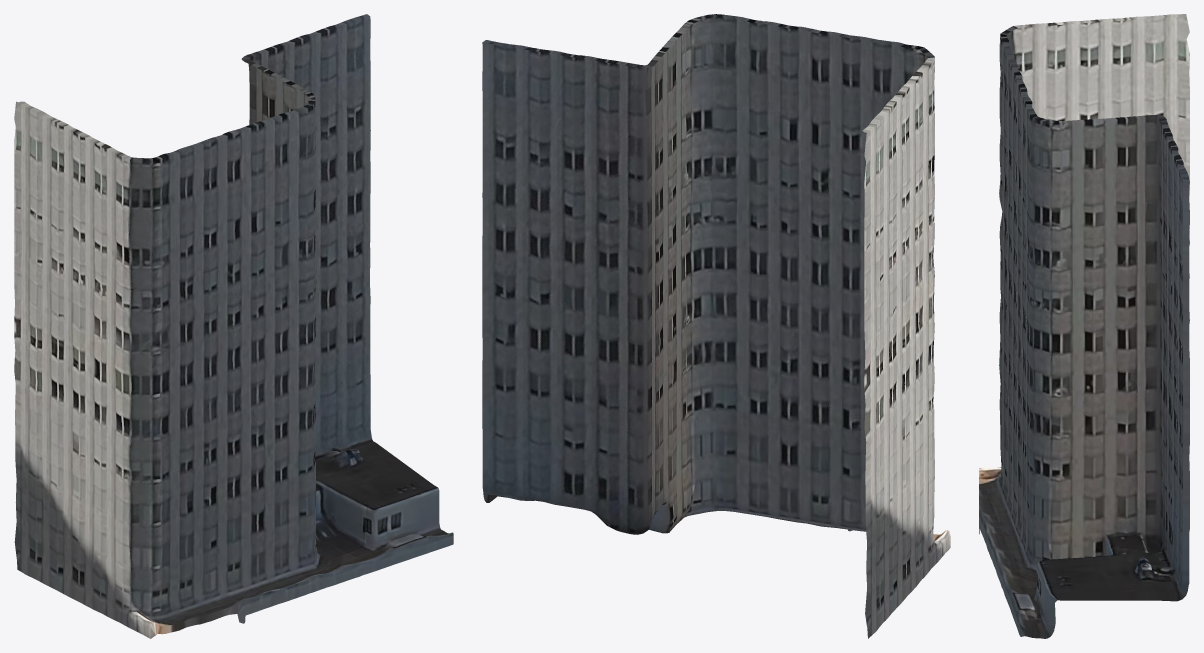
File: z20-167749-405242-h1-yup-uvflip-v3-world.glb
3 views of the same model, side by side, from view 1: azimuth 30°, elevation 25°; view 2: azimuth 150°, elevation 25°; view 3: azimuth 270°, elevation 25° (orthographic). The views are drawn at different scales.
Bounding box in the file's own units: 30.16 × 38.72 × 16.
1 material, 1 textured.
